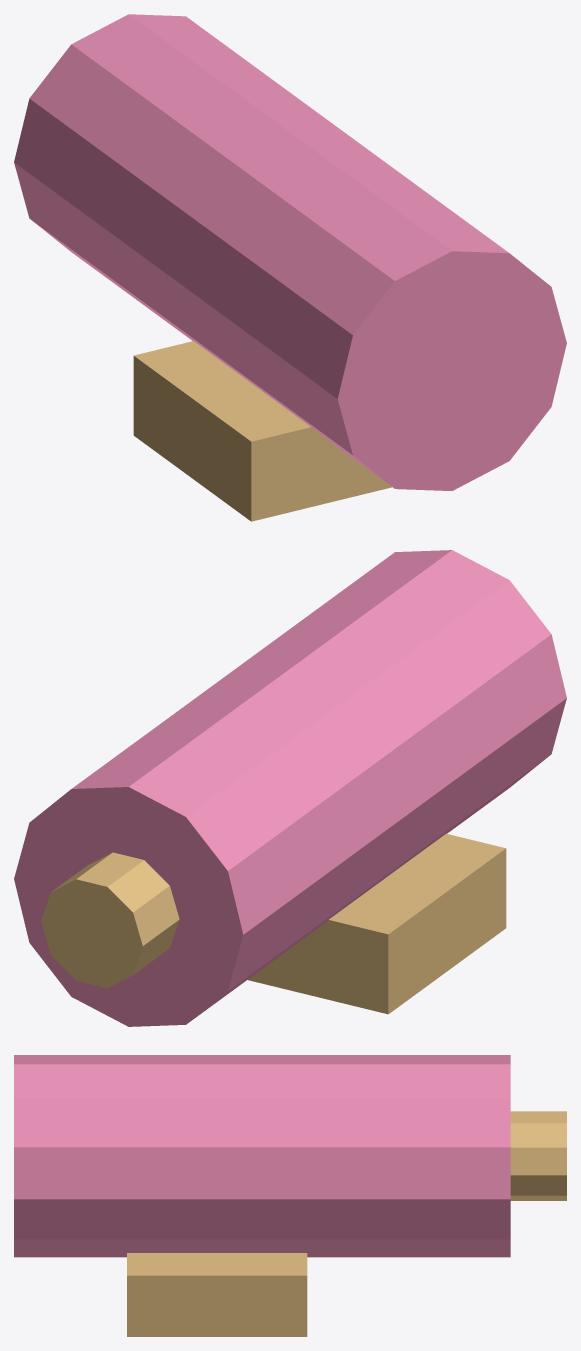
The model's file is TargetLaser.obj.
3 renders of one model, top to bottom at view 1: azimuth 30°, elevation 25°; view 2: azimuth 150°, elevation 25°; view 3: azimuth 270°, elevation 25°, orthographic. The views are drawn at different scales.
Visible parts, largest first — view 1: TargetLaser_Body, TargetLaser_Detail; view 2: TargetLaser_Body, TargetLaser_Detail; view 3: TargetLaser_Body, TargetLaser_Detail.
Boxes of the visible parts, x1,y1,x2,y2 form: TargetLaser_Body: (14, 14, 566, 490); TargetLaser_Detail: (133, 341, 391, 521); TargetLaser_Body: (14, 550, 566, 1026); TargetLaser_Detail: (41, 833, 506, 1014); TargetLaser_Body: (14, 1055, 510, 1257); TargetLaser_Detail: (127, 1111, 566, 1336).
Size of the model in its own units: 0.1 by 0.11 by 0.245.
